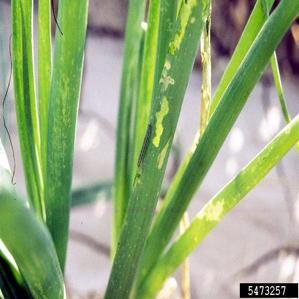Beet armyworm: (127, 116, 169, 179)
